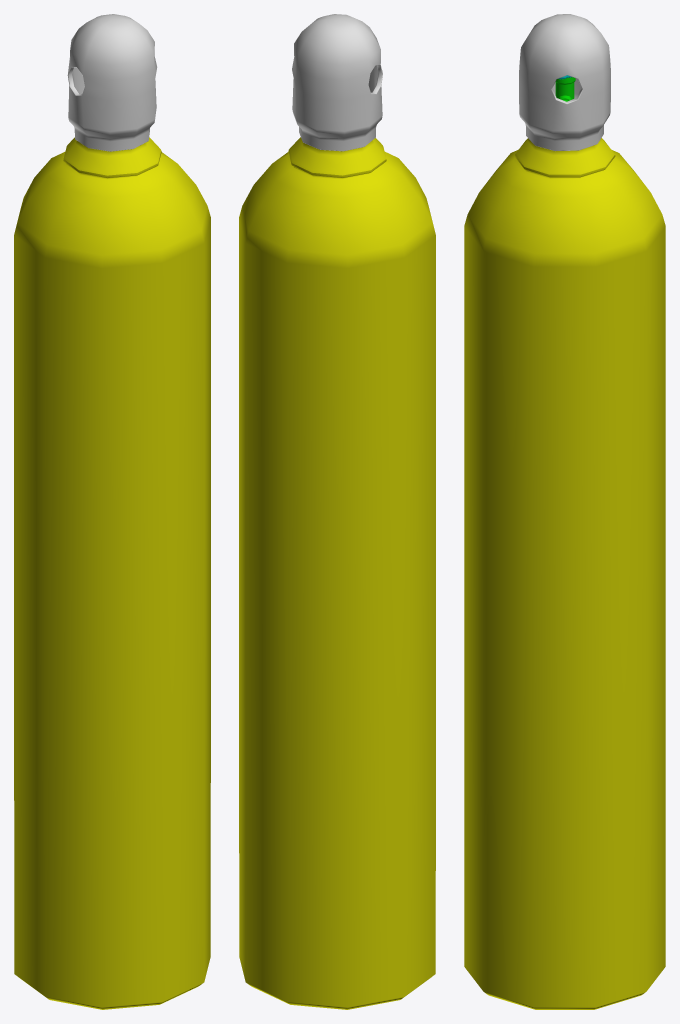
File: GasCanister.fbx
3 views of the same model, side by side, from view 1: azimuth 30°, elevation 25°; view 2: azimuth 150°, elevation 25°; view 3: azimuth 270°, elevation 25° (orthographic).
Visible parts, largest first — view 1: GasCanister, GasCap; view 2: GasCanister, GasCap; view 3: GasCanister, GasCap.
Boxes of the visible parts, <box> form: GasCanister: <box>14,137,210,1009</box>; GasCap: <box>67,14,157,151</box>; GasCanister: <box>239,137,435,1009</box>; GasCap: <box>292,14,382,151</box>; GasCanister: <box>464,75,665,1009</box>; GasCap: <box>519,14,610,150</box>.
Bounding box in the file's own units: 1.76 × 9.67 × 1.85.
